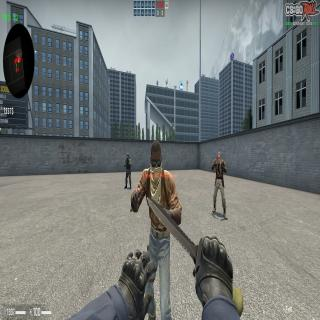CT-Body: (124, 152, 132, 190)
CT-Head: (126, 153, 129, 160)
T-Body: (131, 139, 182, 320), (210, 150, 228, 222)
T-Head: (149, 140, 163, 179), (216, 150, 222, 164)
